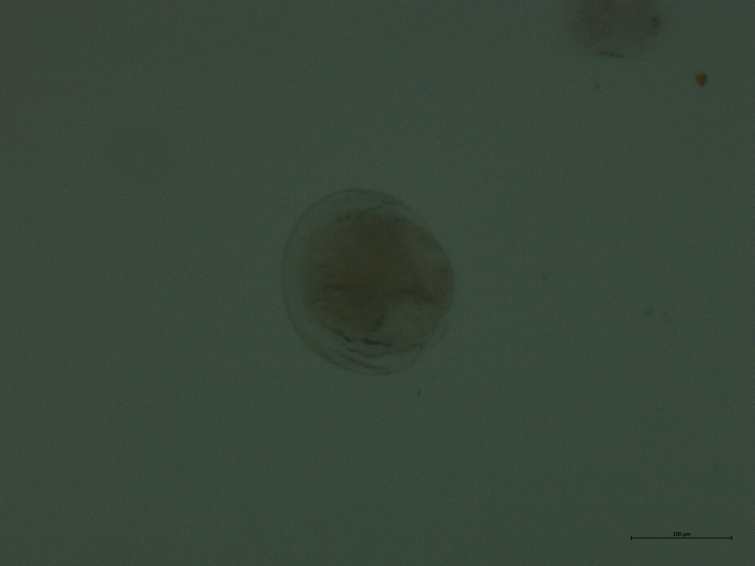oyster: (261, 178, 470, 400)
